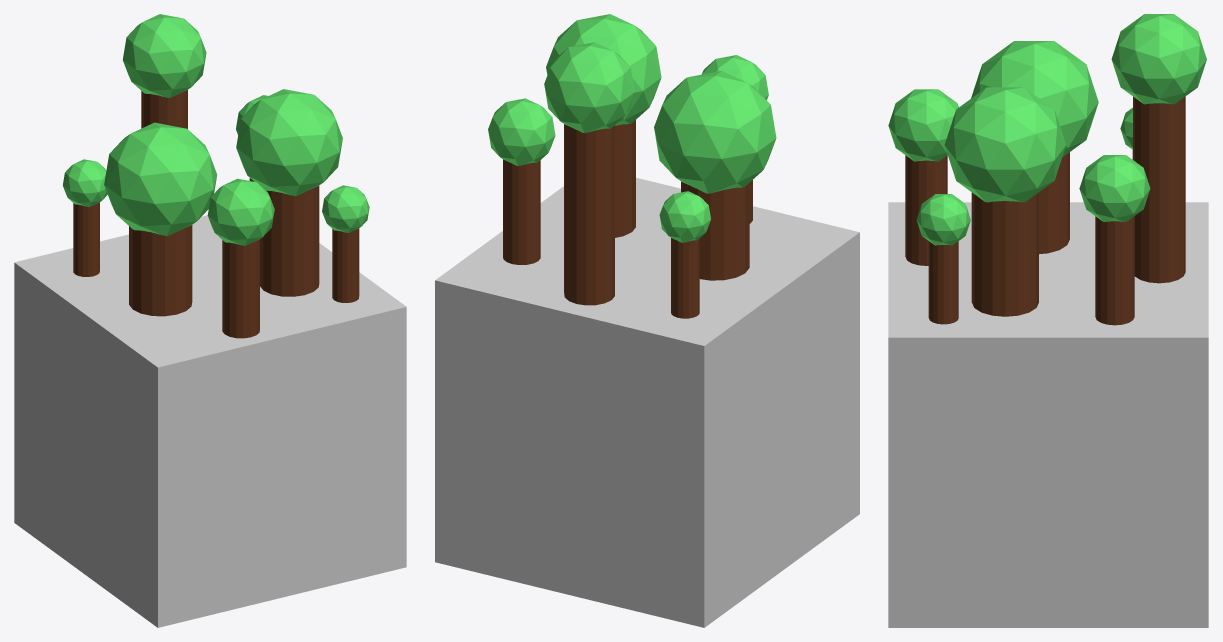
File: Trees.fbx
3 views of the same model, side by side, from view 1: azimuth 30°, elevation 25°; view 2: azimuth 150°, elevation 25°; view 3: azimuth 270°, elevation 25° (orthographic). The views are drawn at different scales.
Parts seen in each view (by area): view 1: Base, Cylinder.007; view 2: Base, Cylinder.007; view 3: Base, Cylinder.007.
Part boxes in pixels (bbox=[...]): Base: bbox=[14, 215, 406, 627]; Cylinder.007: bbox=[62, 14, 369, 338]; Base: bbox=[435, 177, 859, 627]; Cylinder.007: bbox=[488, 14, 776, 318]; Base: bbox=[888, 202, 1208, 627]; Cylinder.007: bbox=[888, 14, 1206, 325].
Bounding box in the file's own units: 20 × 37.65 × 20.
